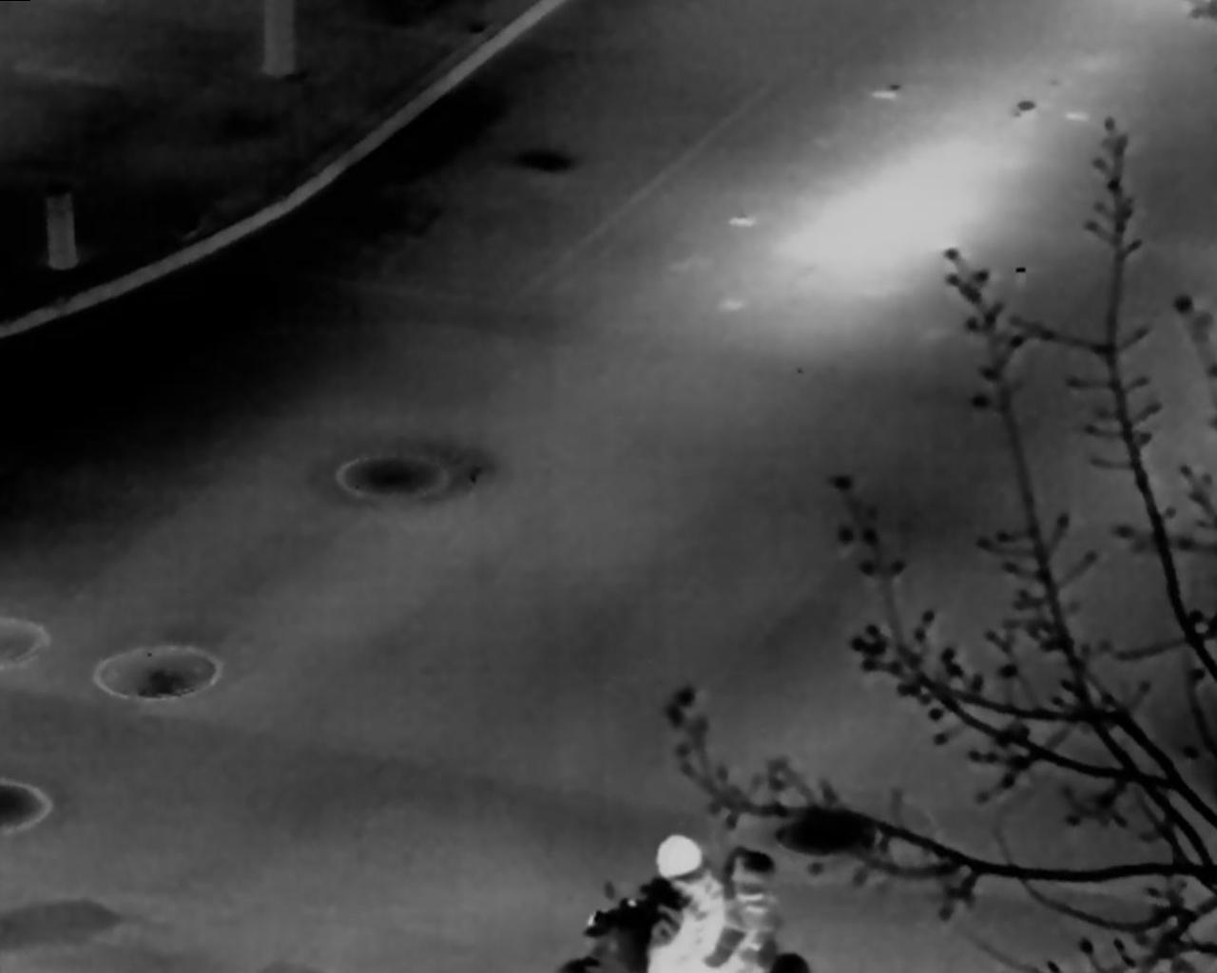person: (644, 831, 721, 973), (719, 845, 782, 973)
